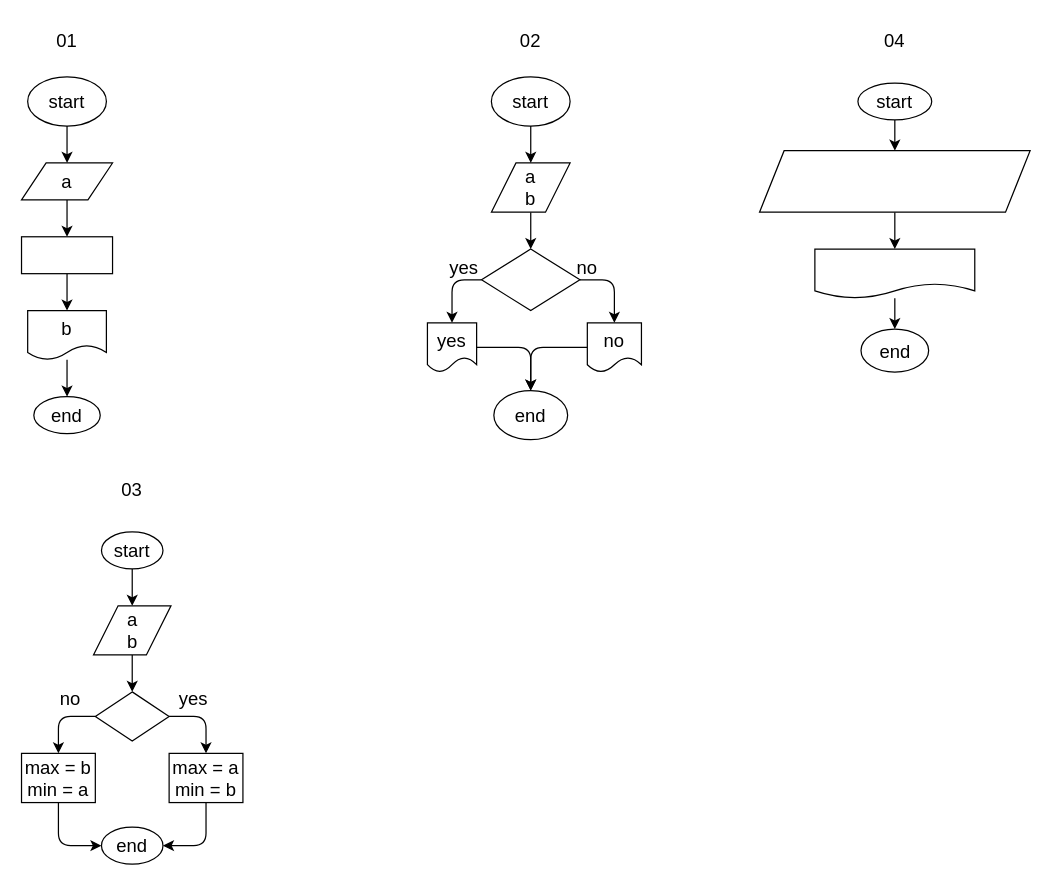
Some shapes in this 1052 by 886 pixel diagram are drawn without their labels. The shapes that lost their labels are listed below. From the top down, each one's box as (x1, y1, x2, y2) in pixels, then its label:
(758, 149, 1030, 212): numDay Week(Monday, tuesday....)
(20, 236, 113, 274): b = a * a
(814, 248, 975, 298): Week[numDay - 1]
(480, 248, 580, 311): a = b * b
(94, 691, 169, 741): a > b
